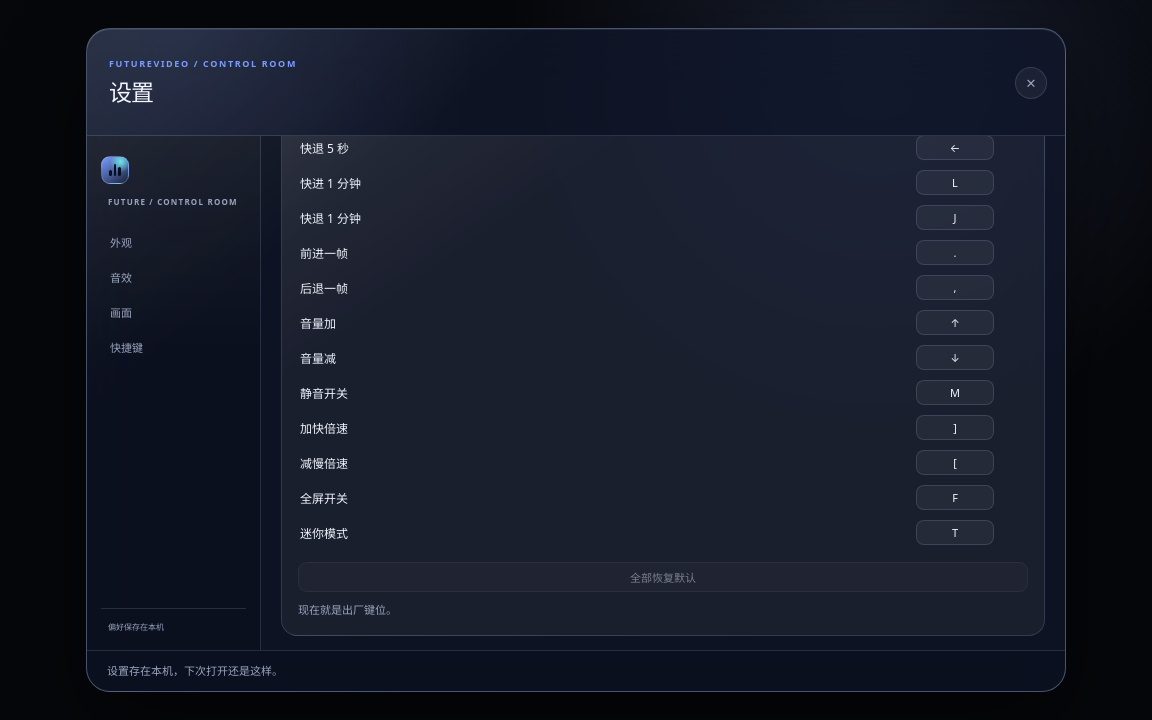
Test: 设置页 · 快捷键 › 撞车提示挂着时按 Esc 就取消，键位不动
The width and height of the screenshot is (1152, 720).
(page scrolled)
Click the button named "静音开关 的按键" at (955, 392), box [916,380,994,405]
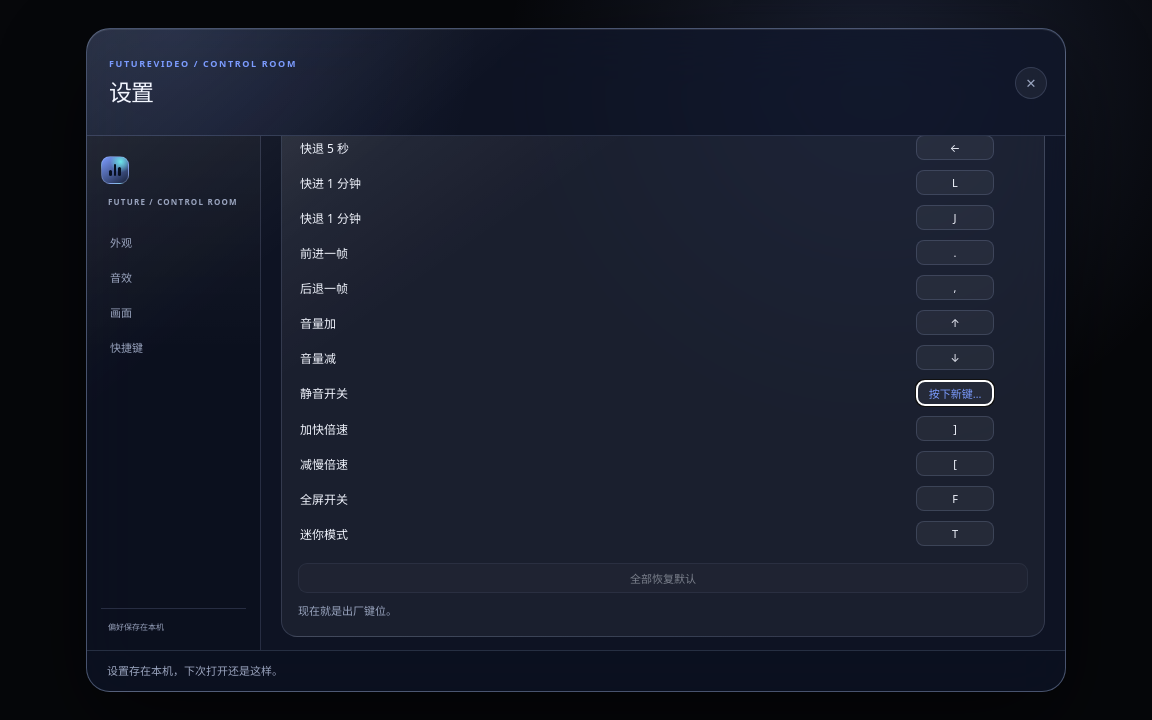
Press KeyL
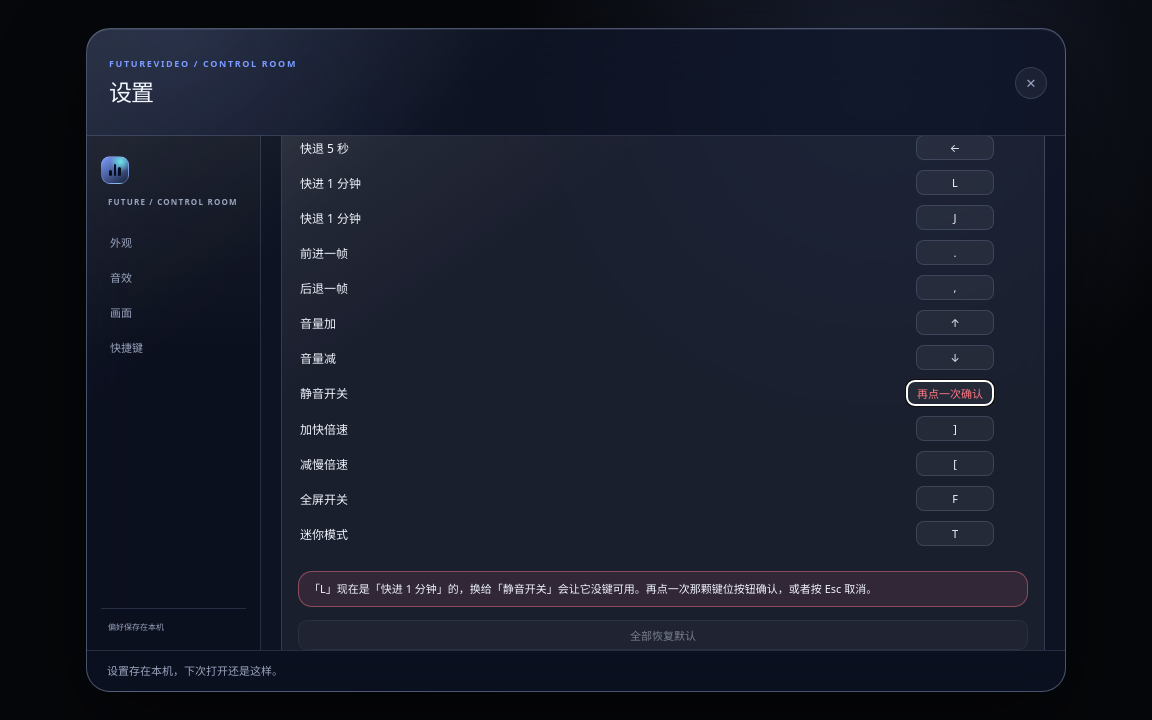
Expected: the message "「L」现在是「快进 1 分钟」的，换给「静音开关」会让它没键可用。再点一次那颗键位按钮确认，或者按 Esc 取消。" is shown, [298,571,1028,607]
Press Escape
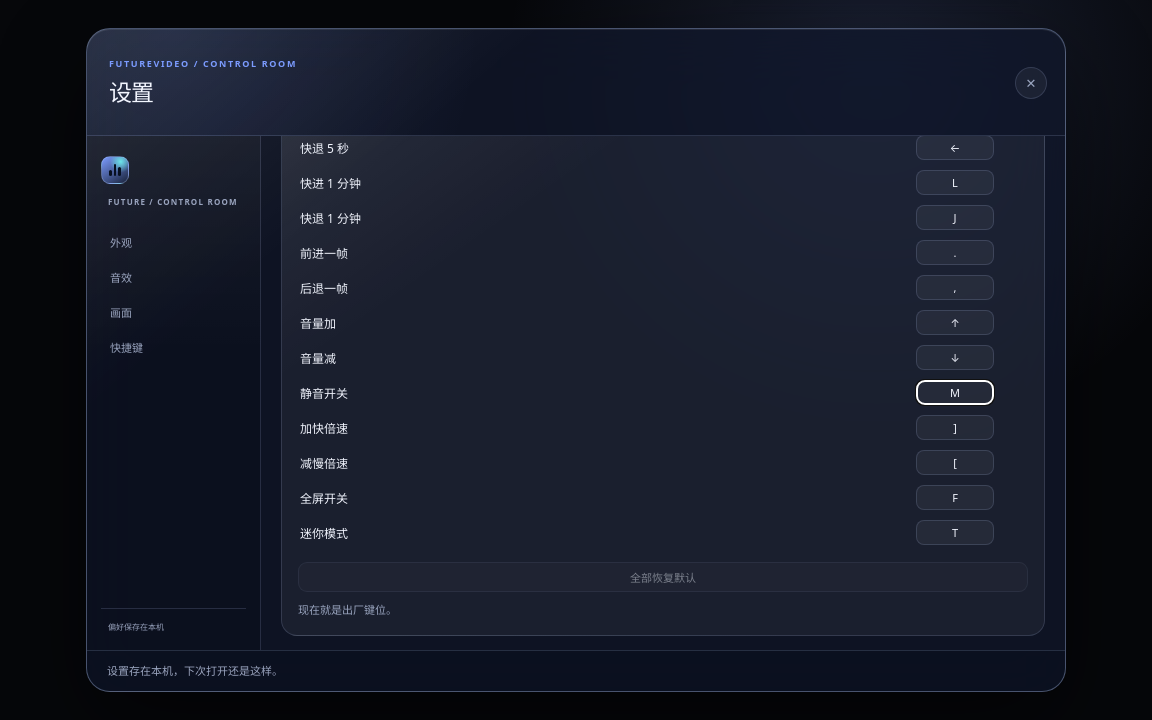
Expected: the message with test id "shortcut-conflict" is gone
Expected: the button named "静音开关 的按键" reads "M", [916,380,994,405]
